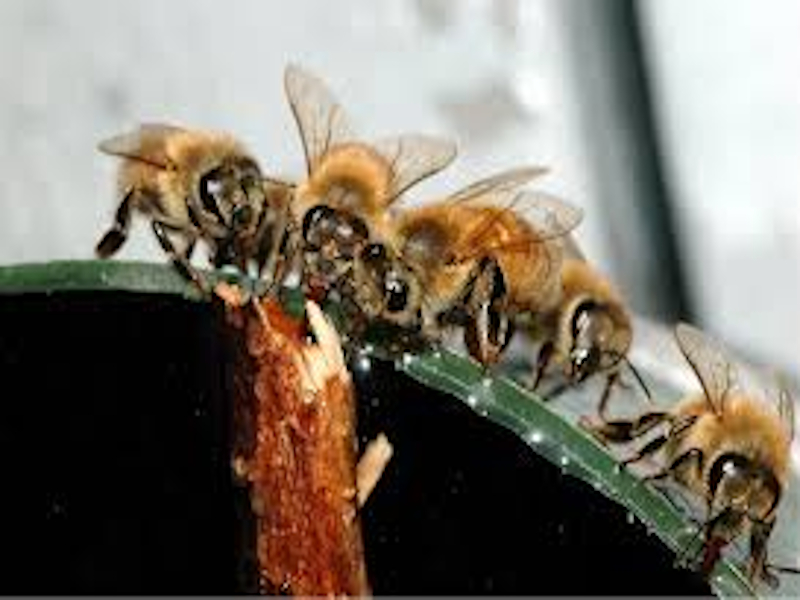abeja: (370, 172, 577, 368), (661, 311, 788, 597), (105, 114, 271, 280), (264, 64, 373, 294), (502, 261, 657, 401)
